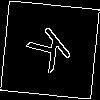K: (25, 25, 80, 82)
